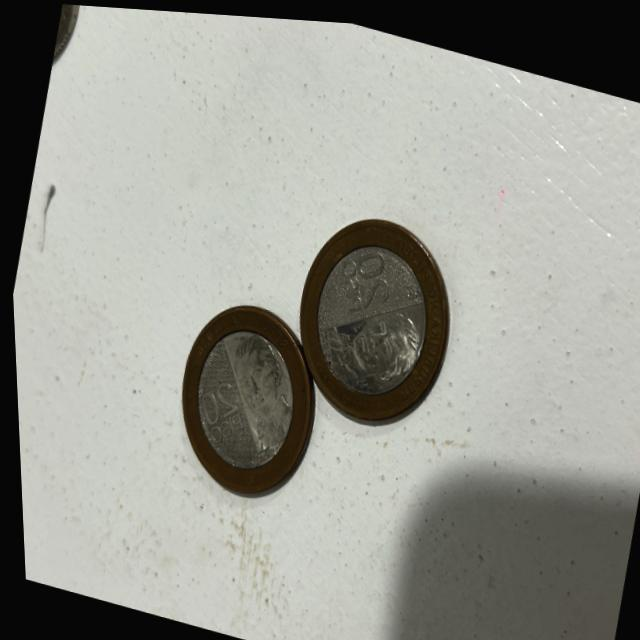20_New_Front: (181, 361, 254, 455), (327, 237, 397, 319)
